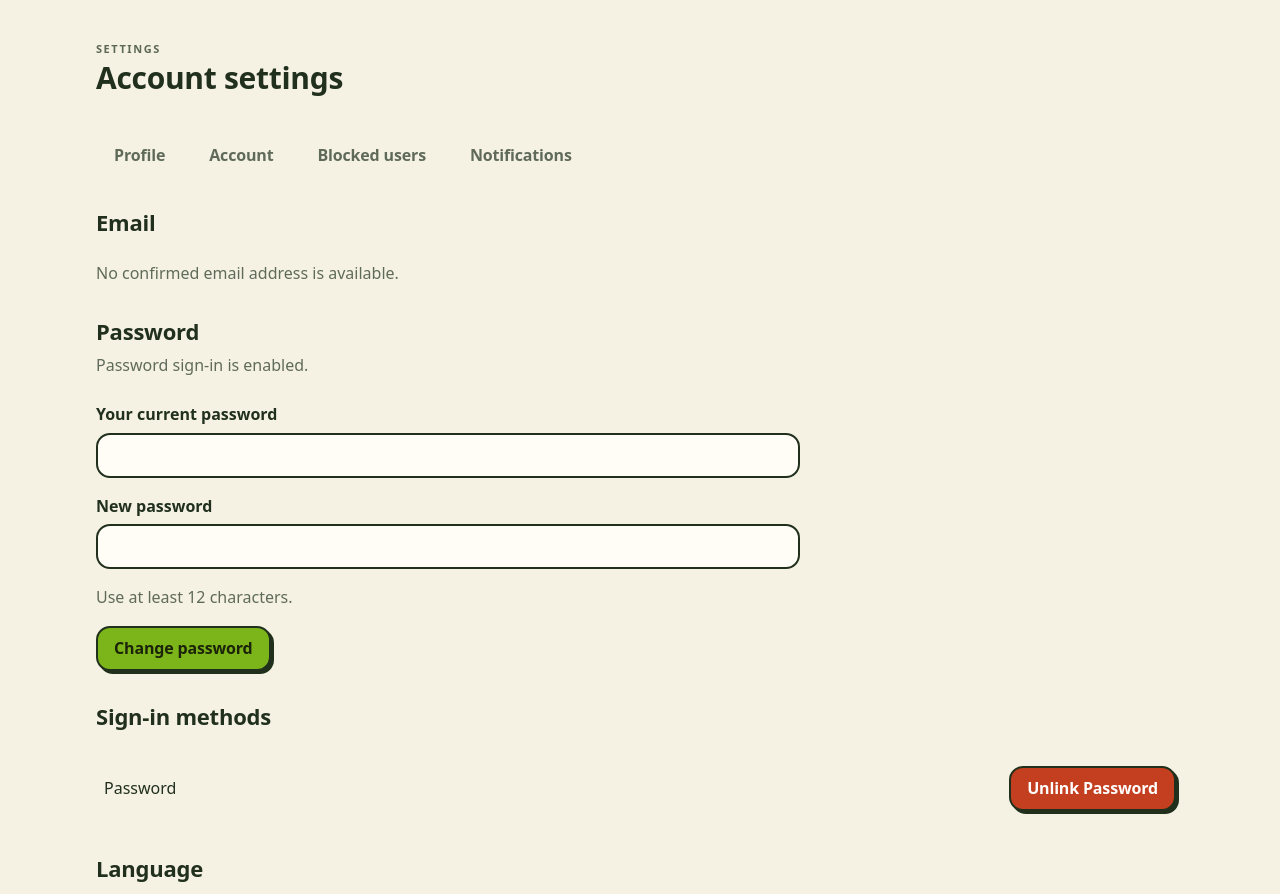
Test case: PasswordManagement › posts the exact change-password body and renders a success message
The image size is (1280, 894).
Type "old-correct-password" into the password field labelled "Your current password" at (448, 455), box 96,433 -> 800,478
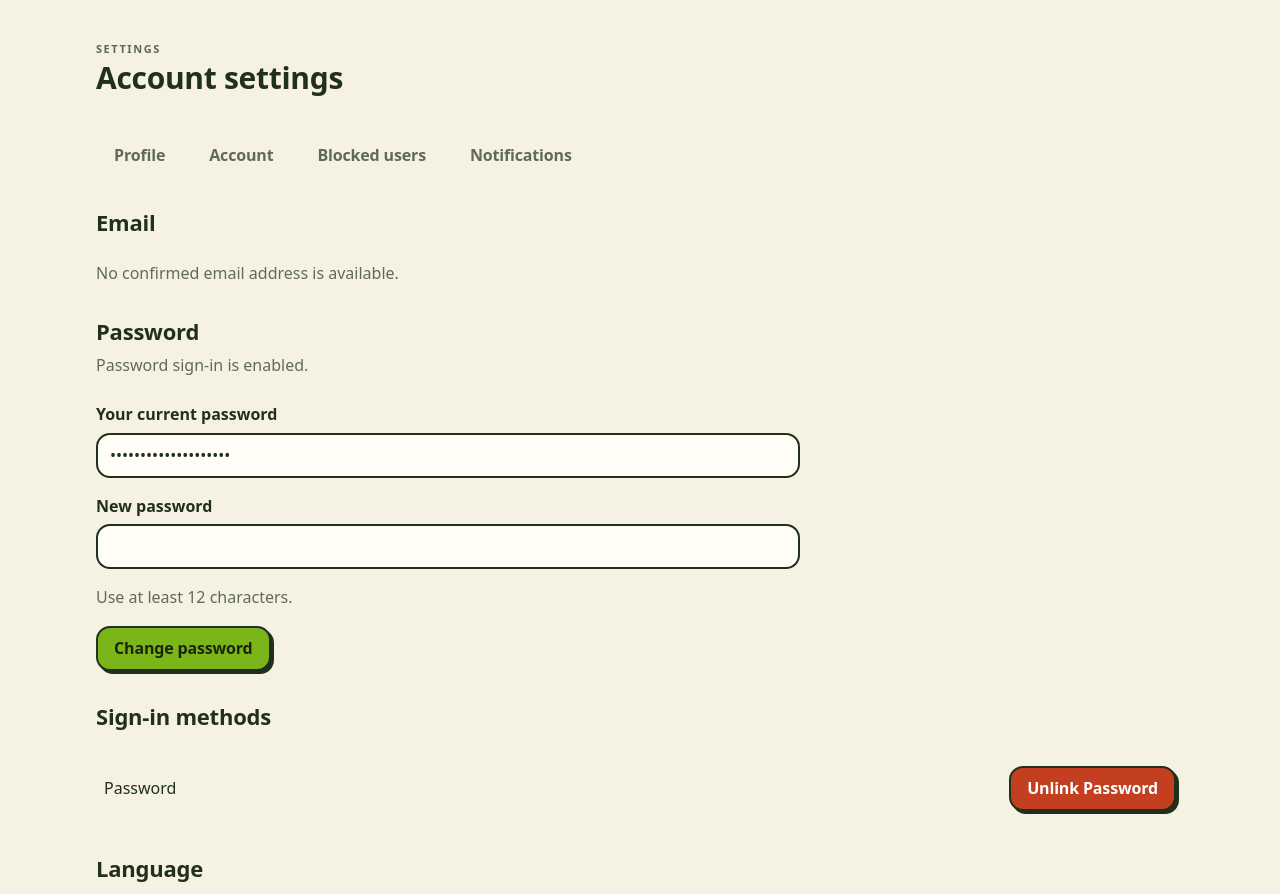
Type "brand-new-password-12" into the password field labelled "New password" at (448, 547), box 96,524 -> 800,569
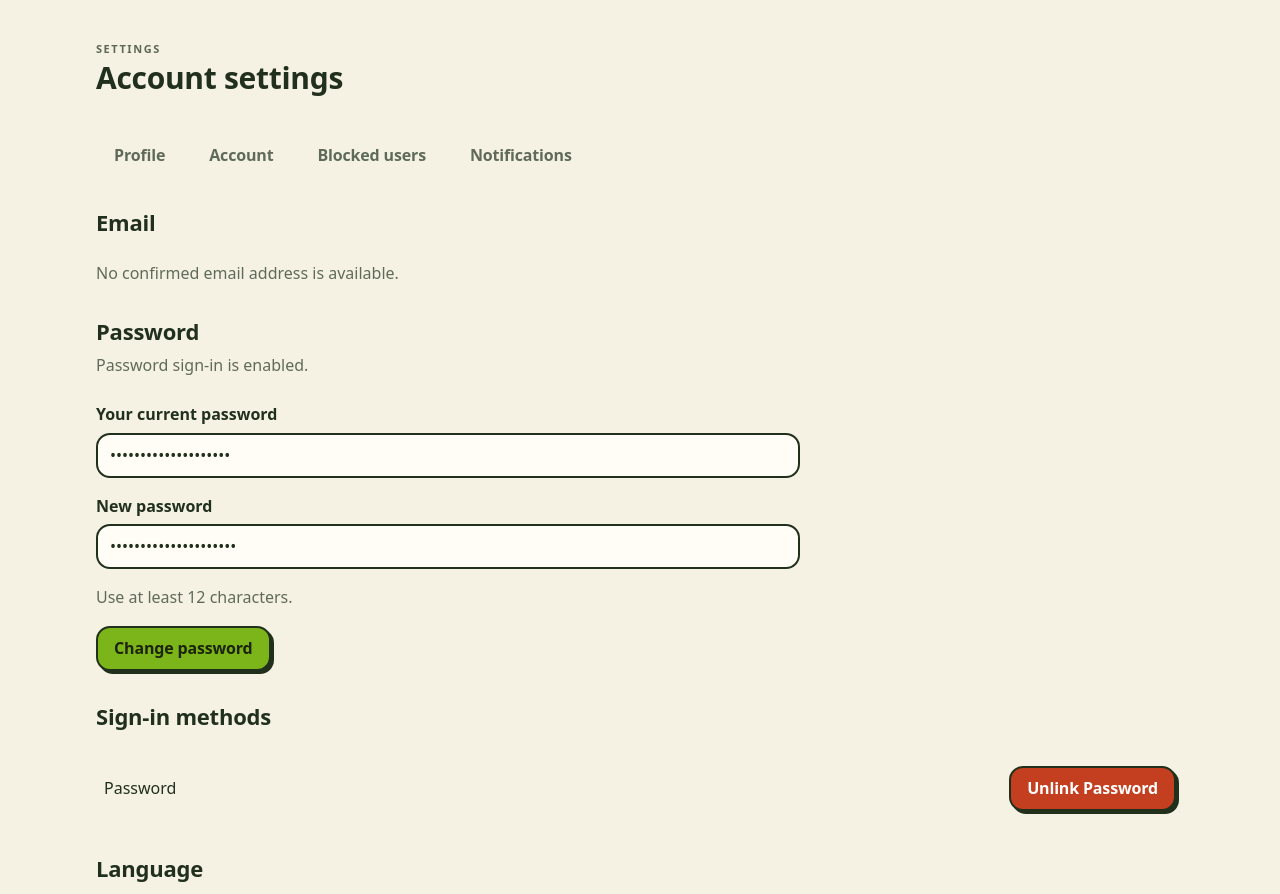
Click the button "Change password" at (183, 648), box 96,626 -> 271,671
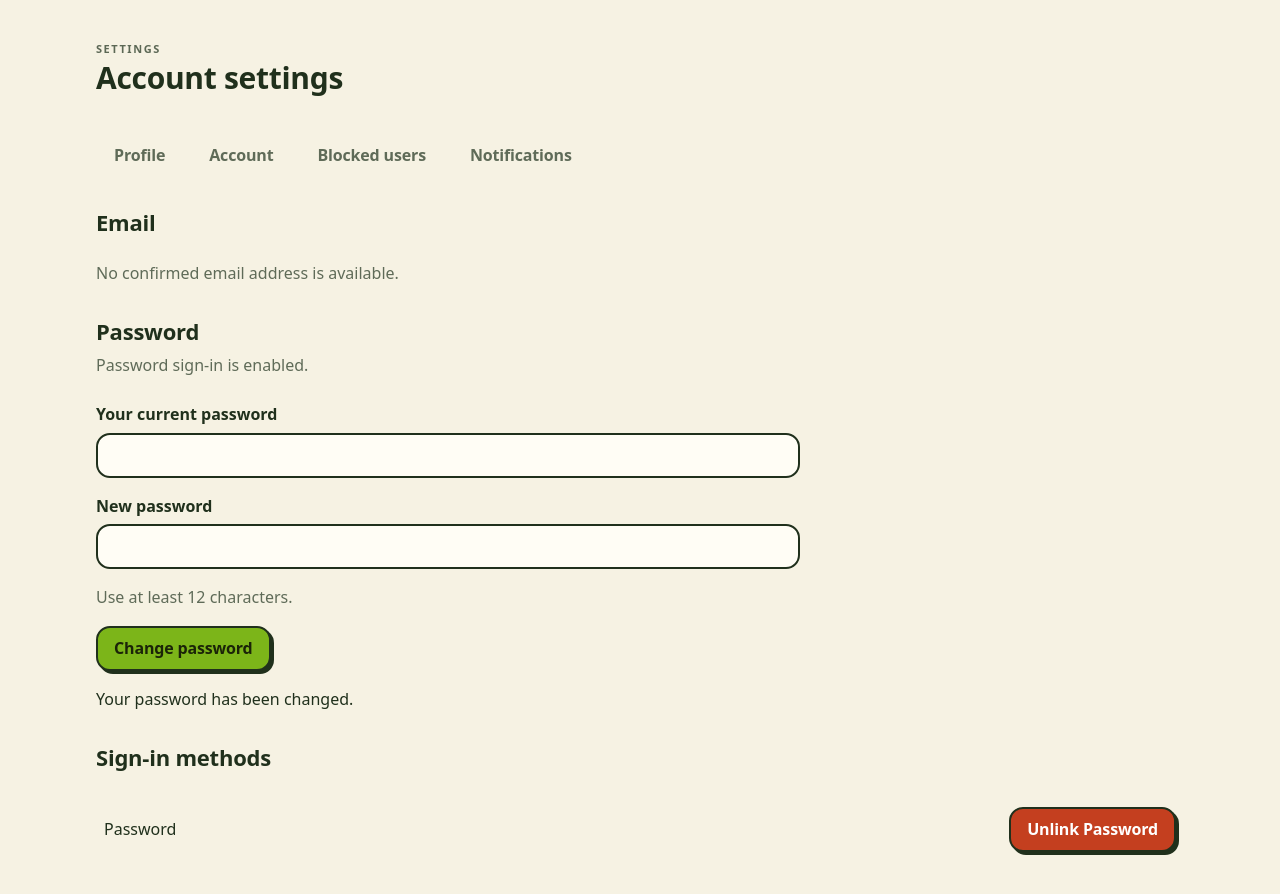
Result: the message reads "Your password has been changed." at 96,688 -> 353,710
Result: the password field labelled "Your current password" is empty at 96,433 -> 800,478
Result: the password field labelled "New password" is empty at 96,524 -> 800,569
